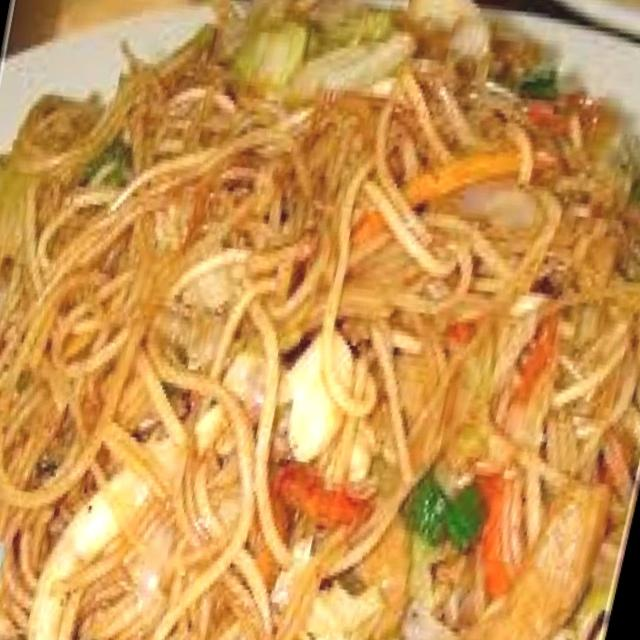pancit bihon: (0, 0, 639, 639)
